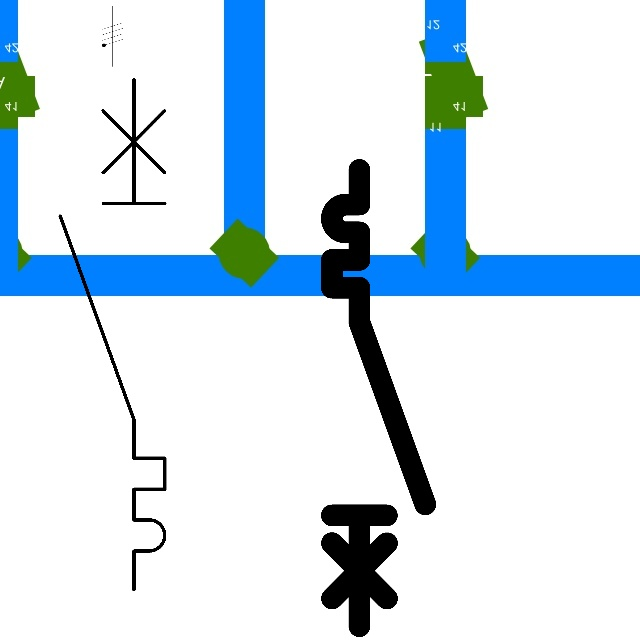interruptor_termomagnetico: (47, 66, 178, 602), (320, 158, 437, 638)
